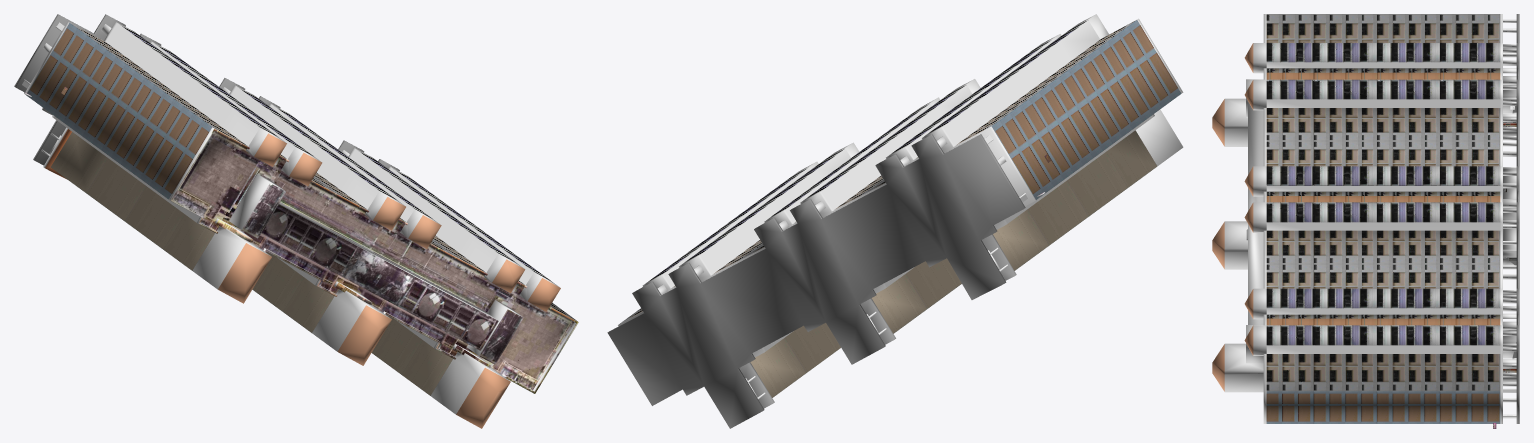
File: amk_blk306_building.obj
3 views of the same model, side by side, from view 1: azimuth 30°, elevation 25°; view 2: azimuth 150°, elevation 25°; view 3: azimuth 270°, elevation 25° (orthographic). The views are drawn at different scales.
Parts seen in each view (by area): view 1: polygon.767; view 2: polygon.767; view 3: polygon.767.
Part boxes in pixels (left/top/right/bottom): polygon.767: left=14, top=14, right=578, bottom=428; polygon.767: left=607, top=14, right=1183, bottom=428; polygon.767: left=1212, top=14, right=1519, bottom=428.
Size of the model in its own units: 68.68 by 55.25 by 54.04.
Materials: 1 (1 with a texture image).
